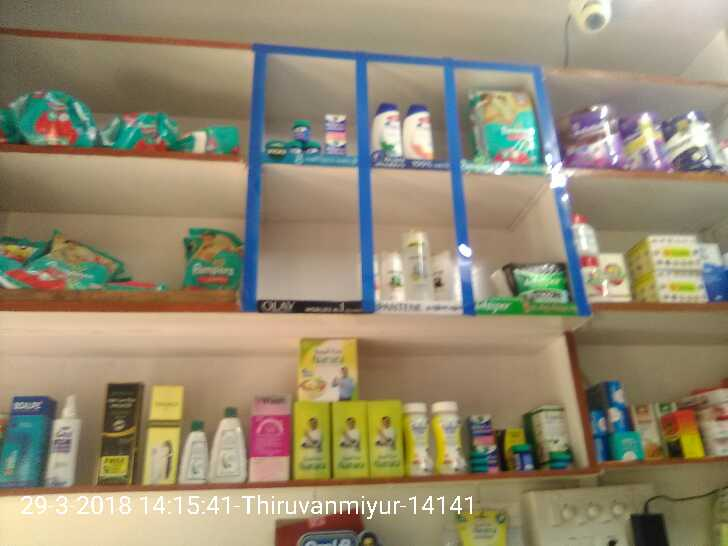vicks: (275, 113, 352, 159)
